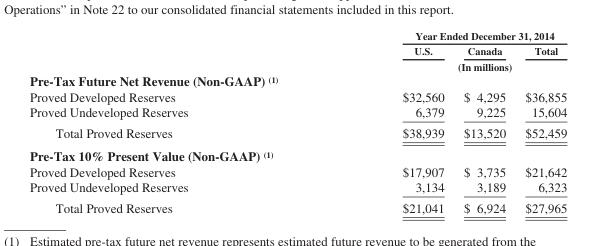table: (28, 29, 566, 214)
table column: (28, 29, 294, 214), (294, 29, 453, 214), (453, 29, 514, 214), (514, 29, 566, 214)
table column header: (28, 29, 566, 72)
table projected row header: (28, 143, 566, 163), (28, 72, 566, 88)
table row: (28, 122, 566, 143), (28, 143, 566, 163), (28, 104, 566, 122), (28, 179, 566, 197), (28, 197, 566, 214), (28, 42, 566, 58), (28, 72, 566, 88), (28, 88, 566, 104), (28, 163, 566, 179), (28, 58, 566, 72), (28, 29, 566, 42)
table spanning cell: (294, 58, 566, 72), (294, 29, 566, 42)
